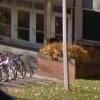Bicycle: (0, 48, 34, 86)
